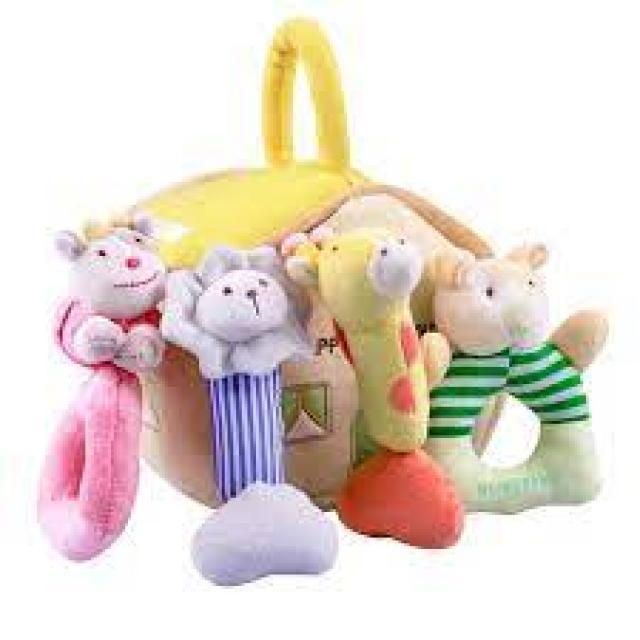soft-toy: (164, 249, 339, 586), (320, 232, 465, 549), (427, 246, 594, 513), (40, 230, 166, 560)
